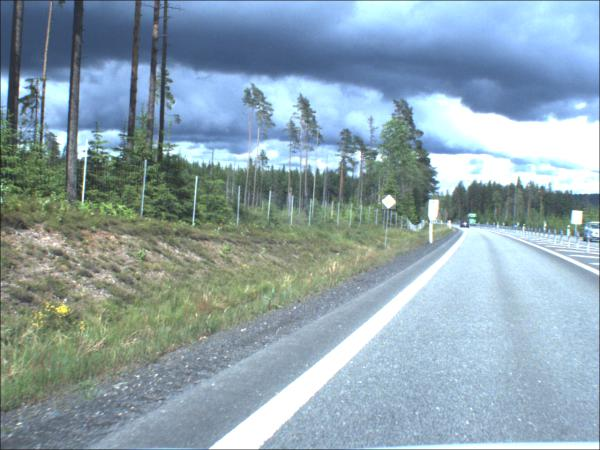PRIORITY_ROAD: (382, 196, 397, 211)
